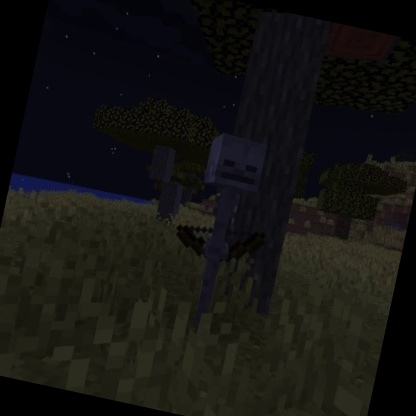skeleton: (153, 122, 291, 336)
